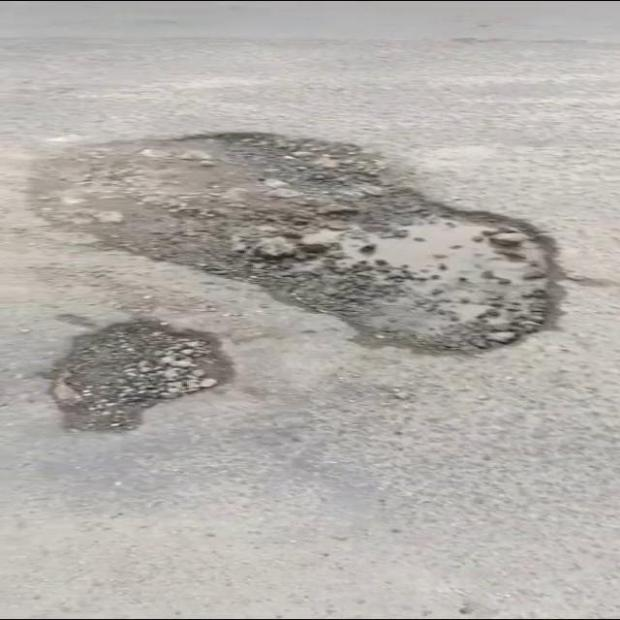lubang: (31, 133, 553, 352), (49, 318, 232, 430)
